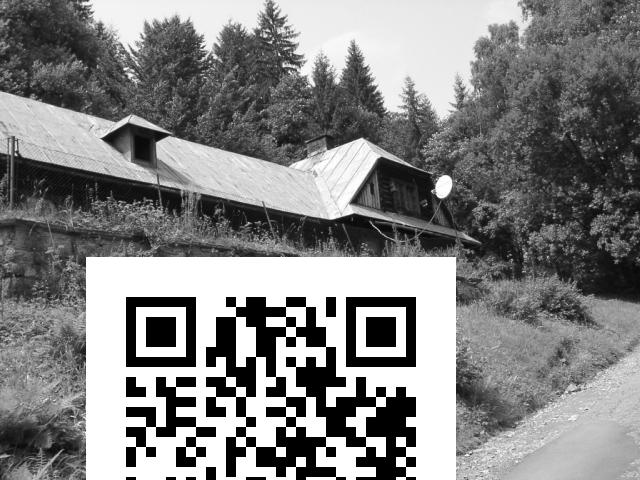qr_code: (117, 286, 422, 480)
